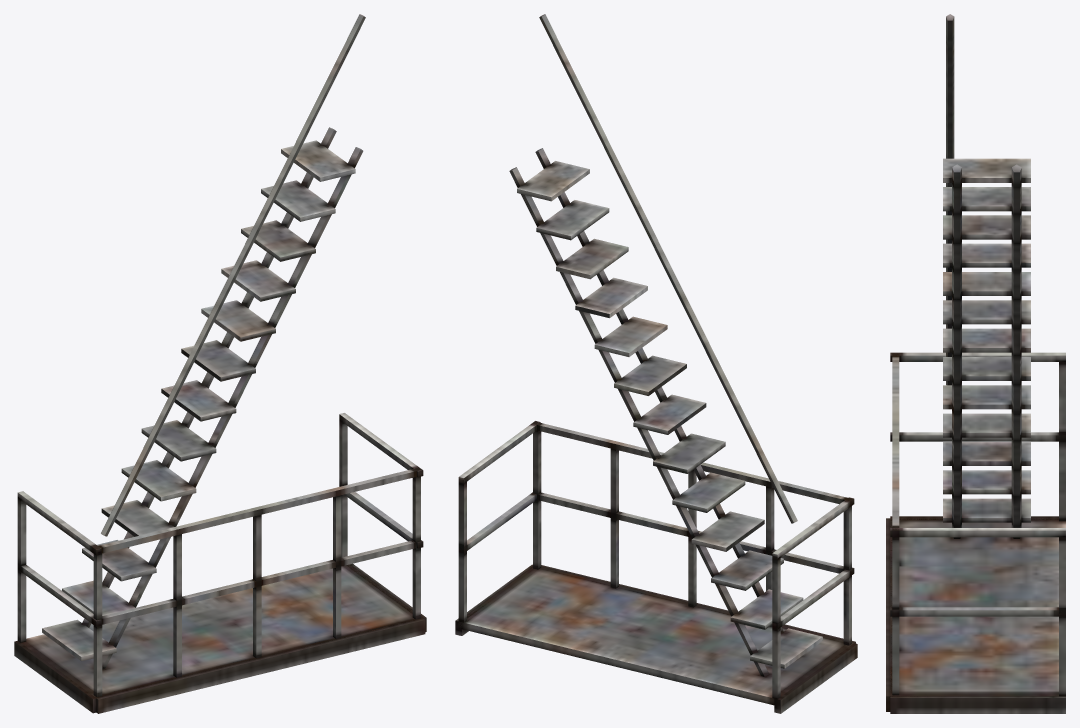
The model's file is fire_escape.glb.
3 renders of one model, left to right at view 1: azimuth 30°, elevation 25°; view 2: azimuth 150°, elevation 25°; view 3: azimuth 270°, elevation 25°, orthographic. The views are drawn at different scales.
Parts seen in each view (by area): view 1: fire_escape; view 2: fire_escape; view 3: fire_escape.
Boxes of the visible parts, x1,y1,x2,y2 form: fire_escape: (14, 14, 426, 713); fire_escape: (455, 14, 857, 713); fire_escape: (886, 14, 1065, 713).
Size of the model in its own units: 2.45 by 4.26 by 1.02.
Materials: 2 (2 with a texture image).
